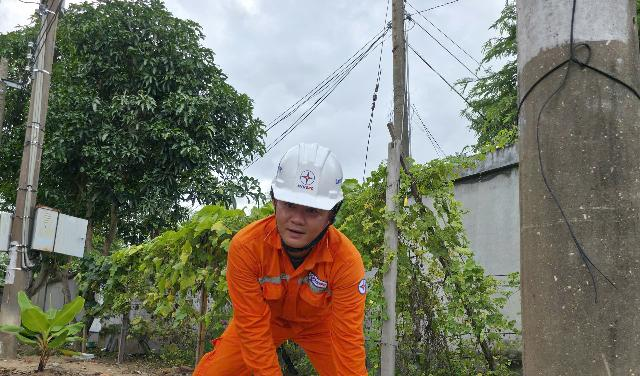helmet: (262, 137, 351, 212)
